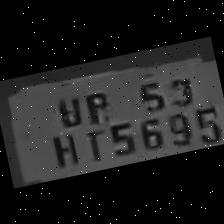3: (162, 72, 196, 109)
5: (187, 99, 224, 147), (100, 116, 137, 159), (132, 76, 168, 114)
6: (130, 110, 166, 154)
9: (160, 106, 194, 149)
H: (44, 125, 80, 168)
P: (76, 84, 114, 126)
T: (76, 122, 108, 163)
U: (48, 88, 84, 131)
